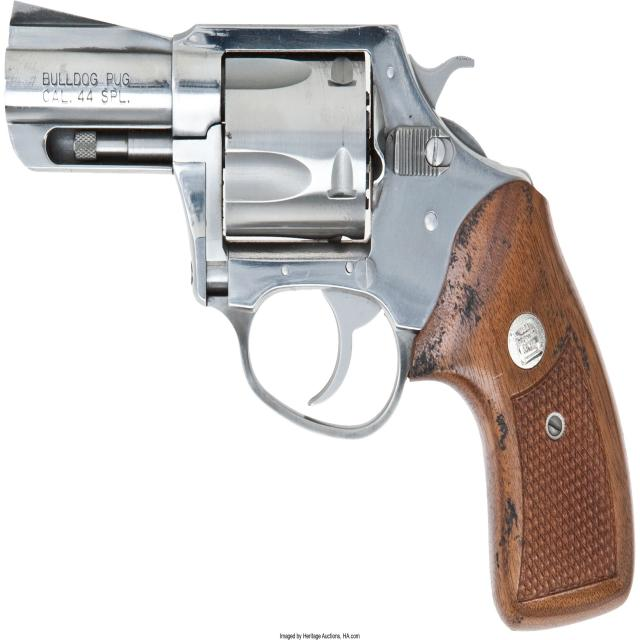Gun: (11, 4, 640, 623)
